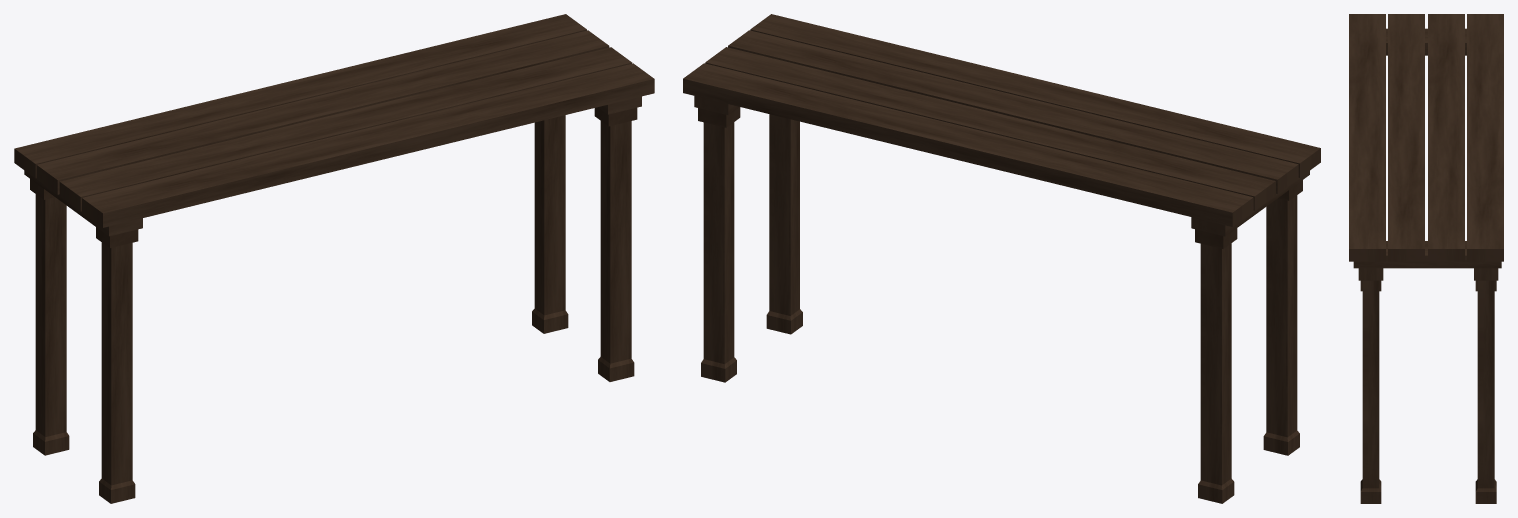
Rendered from wooden_stand1.fbx.
The picture shows the model from 3 angles, left to right: view 1: azimuth 30°, elevation 25°; view 2: azimuth 150°, elevation 25°; view 3: azimuth 270°, elevation 25°; orthographic projection. The views are drawn at different scales.
Visible parts, largest first — view 1: wooden stand; view 2: wooden stand; view 3: wooden stand.
Part boxes in pixels (box(x1,y1,x2,y2)): wooden stand: box(14, 14, 654, 503); wooden stand: box(683, 14, 1320, 503); wooden stand: box(1349, 14, 1503, 503).
Bounding box in the file's own units: 199 × 103 × 55.37.
